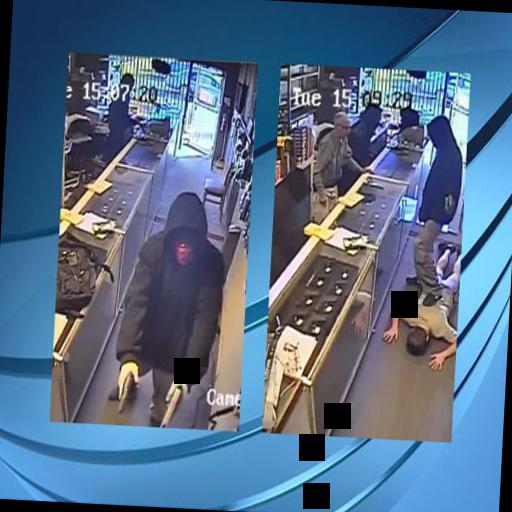Handgun: (152, 365, 192, 458), (102, 362, 134, 436)
